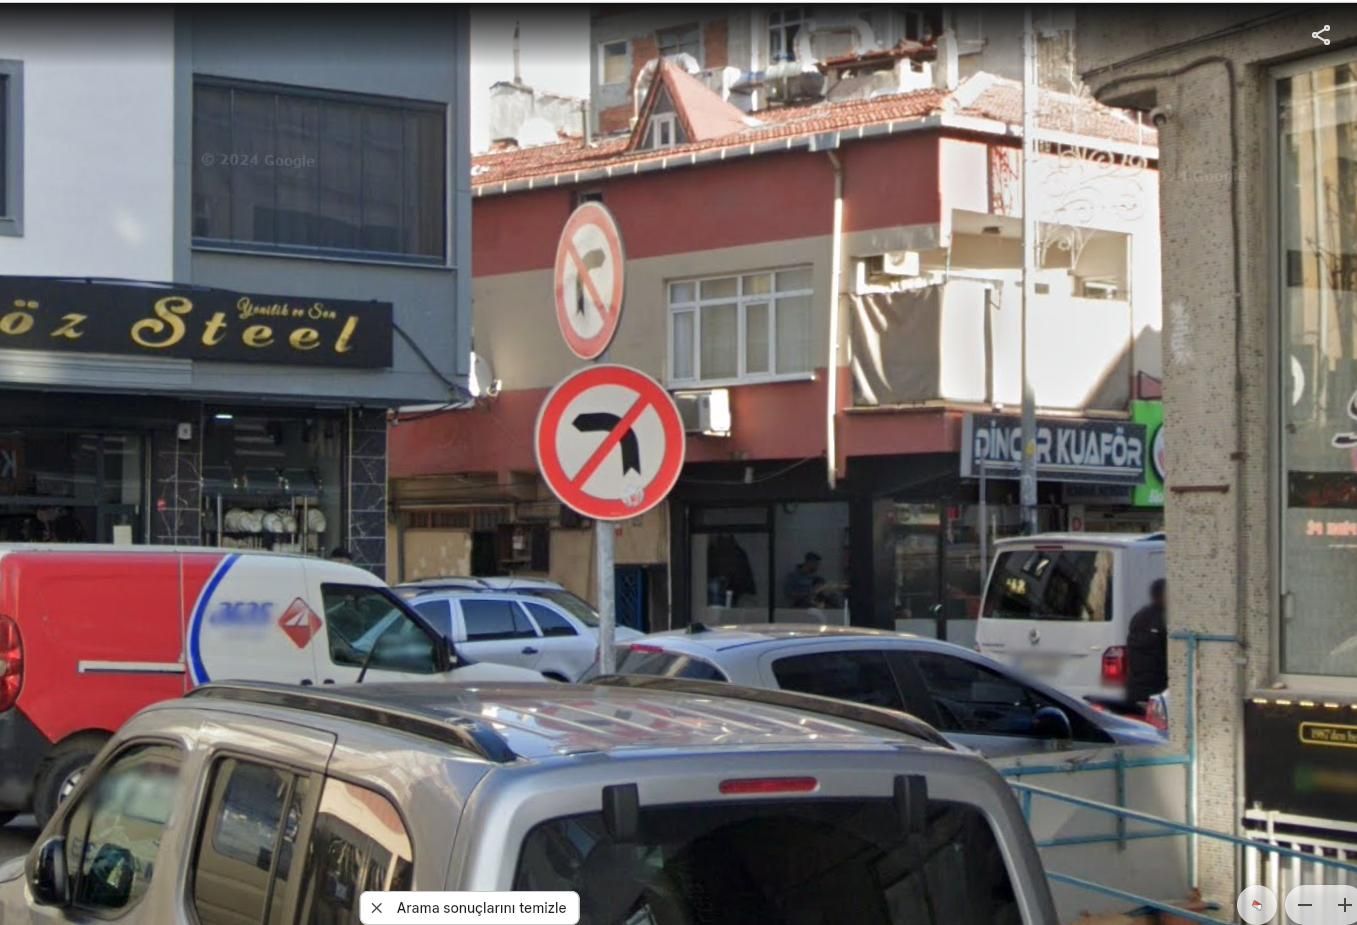leftturnsareforbidden: (538, 370, 684, 519)
rightturnsareforbidden: (555, 208, 623, 361)
